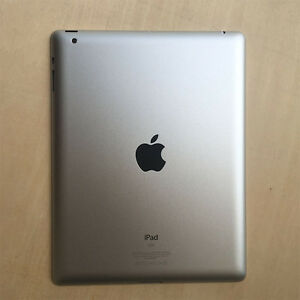apple: (127, 127, 170, 182)
